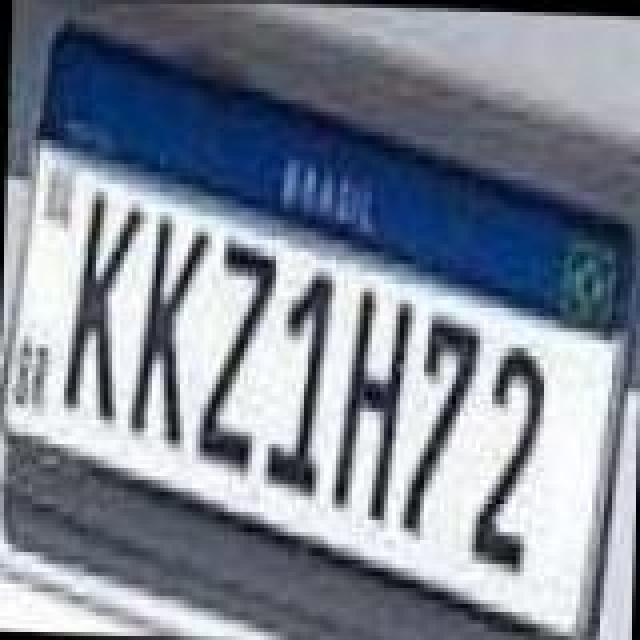1: (262, 270, 334, 502)
2: (466, 336, 550, 576)
7: (398, 306, 482, 538)
H: (328, 284, 412, 524)
K: (62, 184, 146, 424), (126, 210, 210, 450)
Z: (196, 232, 280, 472)
